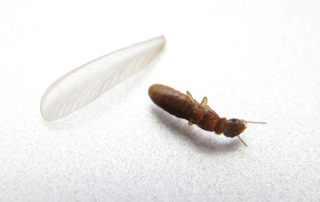flying termite: (39, 27, 272, 170)
